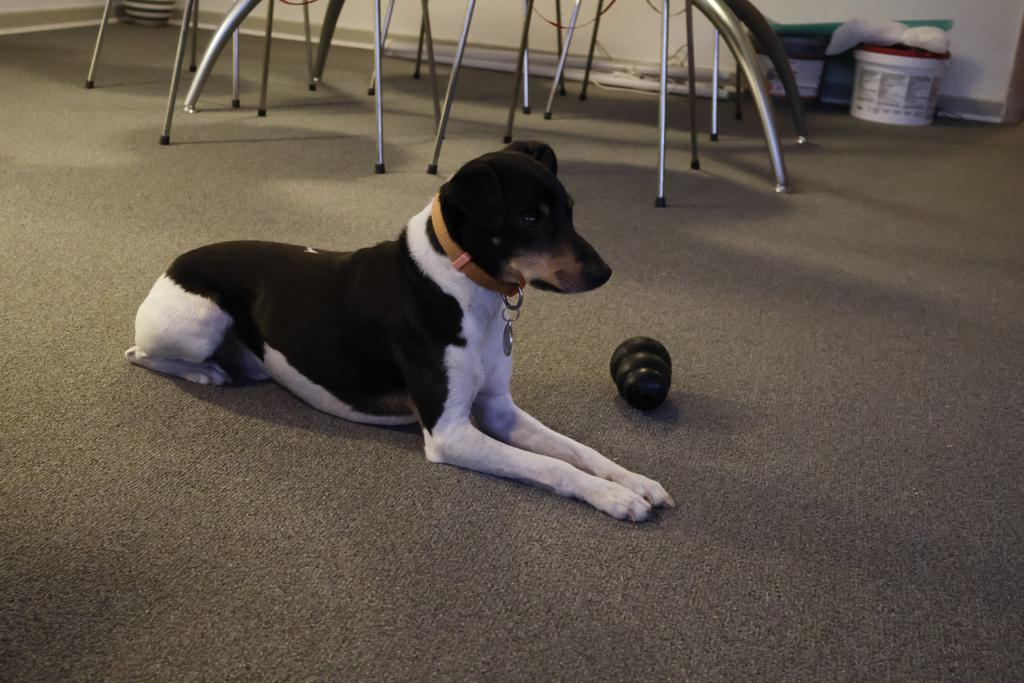Dog: (107, 131, 695, 539)
